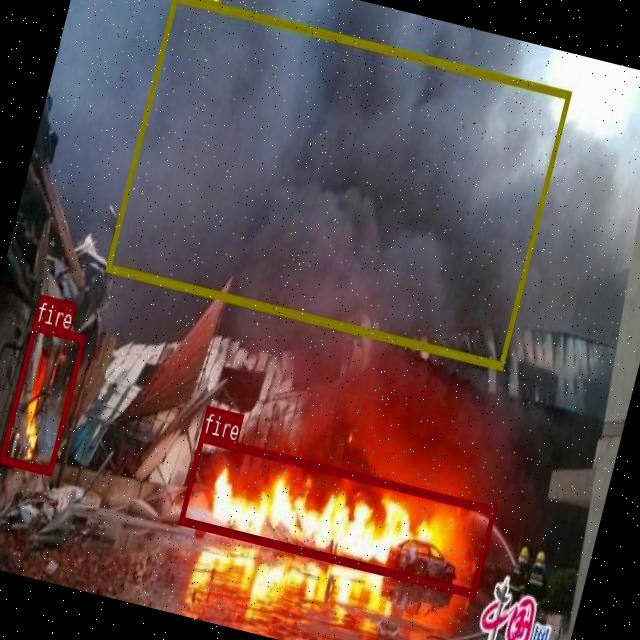fire: (178, 431, 496, 595), (0, 319, 85, 473)
smoke: (104, 0, 570, 367)
